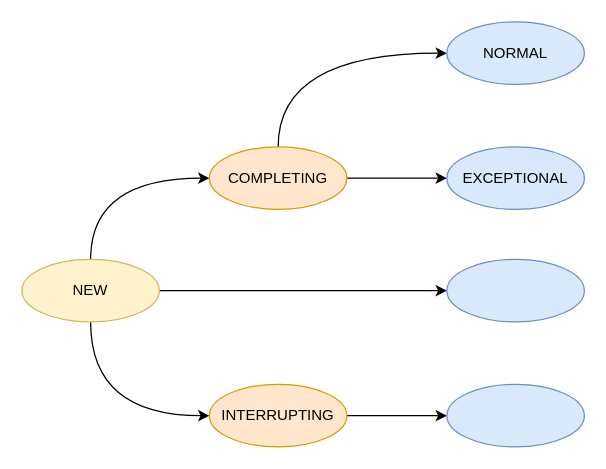
This 606x469 diagram has some shape labels left out. Each missing label, with the box of its shape:
CANCELLED: (446, 258, 584, 322)
INTERRUPTED: (446, 383, 584, 447)
